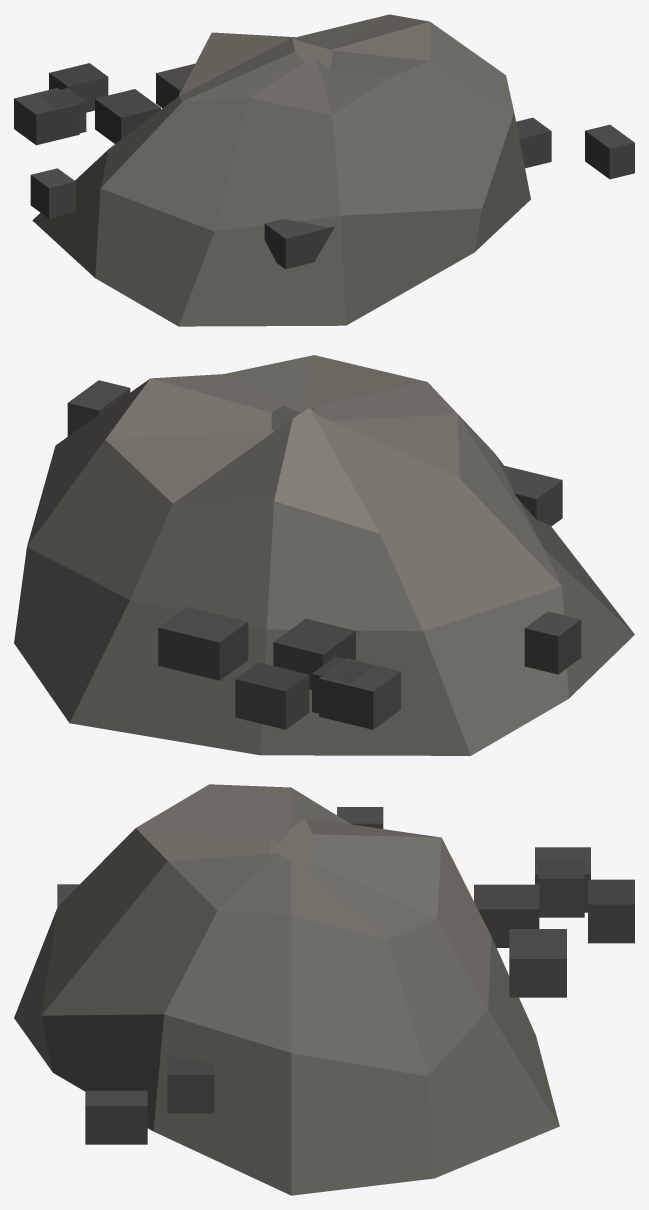
The model's file is walk_prop_rubble.glb.
3 renders of one model, top to bottom at view 1: azimuth 30°, elevation 25°; view 2: azimuth 150°, elevation 25°; view 3: azimuth 270°, elevation 25°, orthographic. The views are drawn at different scales.
Parts seen in each view (by area): view 1: walk_prop_rubble; view 2: walk_prop_rubble; view 3: walk_prop_rubble.
Boxes of the visible parts, x1,y1,x2,y2 form: walk_prop_rubble: (14,14,634,326); walk_prop_rubble: (14,355,634,755); walk_prop_rubble: (14,784,634,1195).
Size of what is drawn, in the model's own units: 4.16 by 1.64 by 3.65.
1 material, 1 textured.
